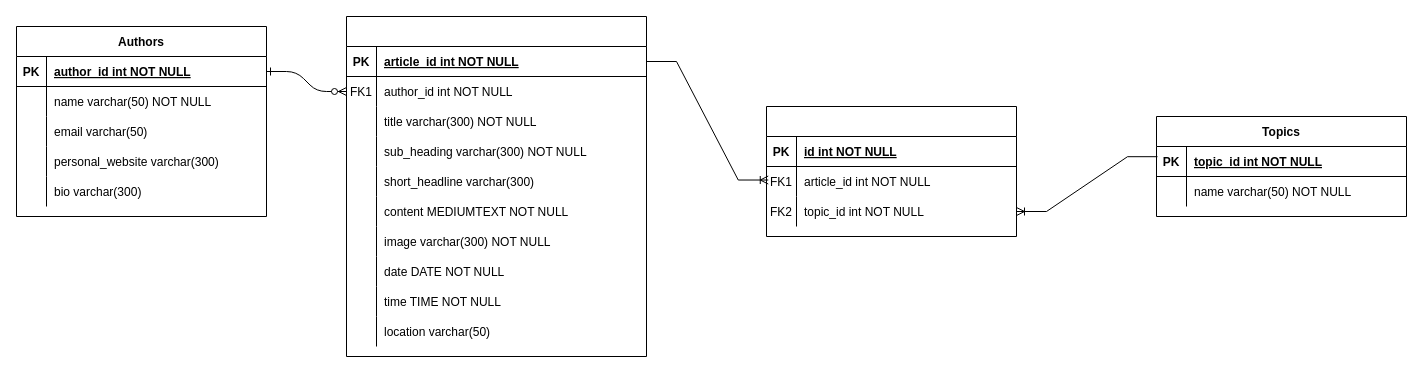
The diagram is 1423 pixels wide and 373 high, and some of its shapes have lost their labels. The shapes that lost their labels are listed below. From the top down, each one's box as (x1, y1, x2, y2) in pixels, then its label:
(346, 16, 646, 356): Articles
(766, 106, 1016, 236): articles_topics
